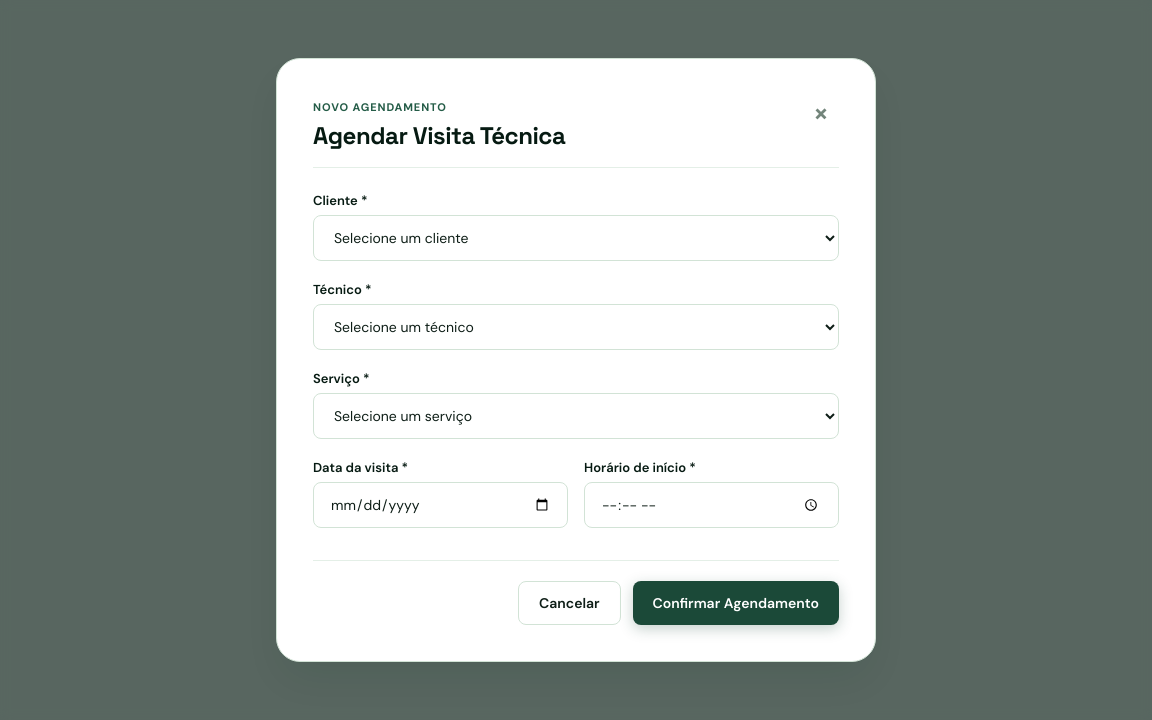
Test: CreateAppointmentModal › validates required fields on submit without inputs
Expected: the dropdown labelled "Cliente *" is shown, [313, 215, 839, 261]
Click the button "Confirmar Agendamento". click: (736, 603)
box: [633, 581, 839, 625]
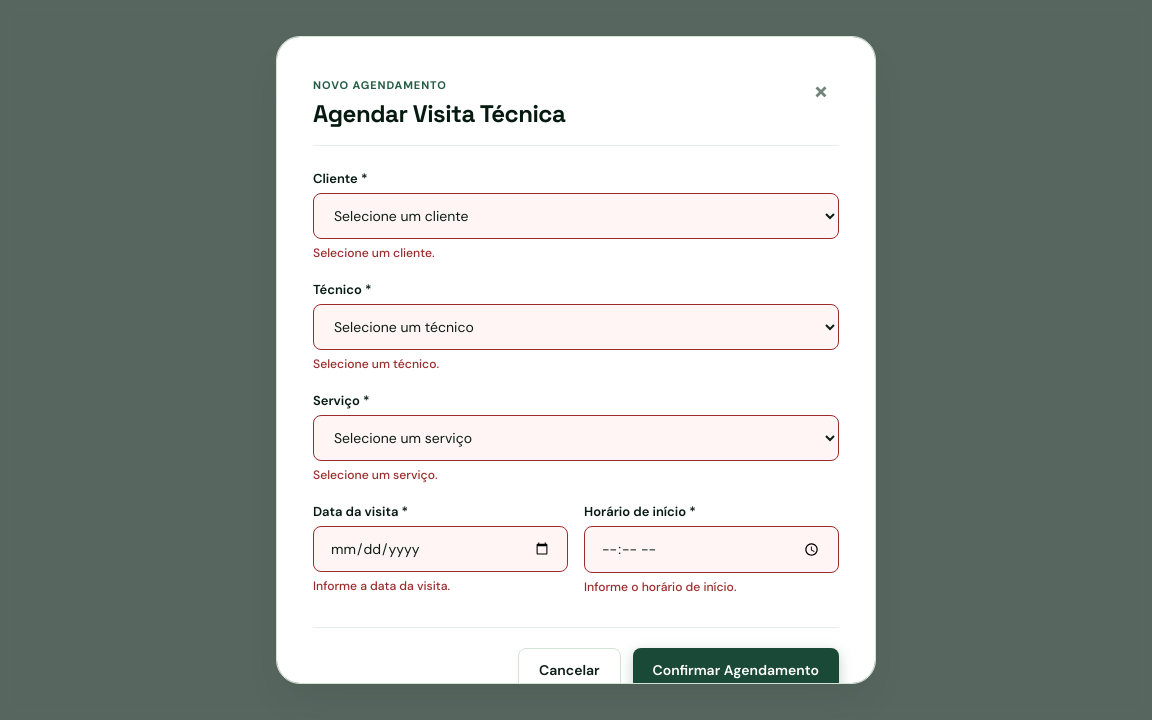
Expected: the text "Selecione um cliente." is shown, [313, 245, 435, 261]
Expected: the text "Selecione um técnico." is shown, [313, 356, 439, 372]
Expected: the text "Selecione um serviço." is shown, [313, 467, 438, 483]
